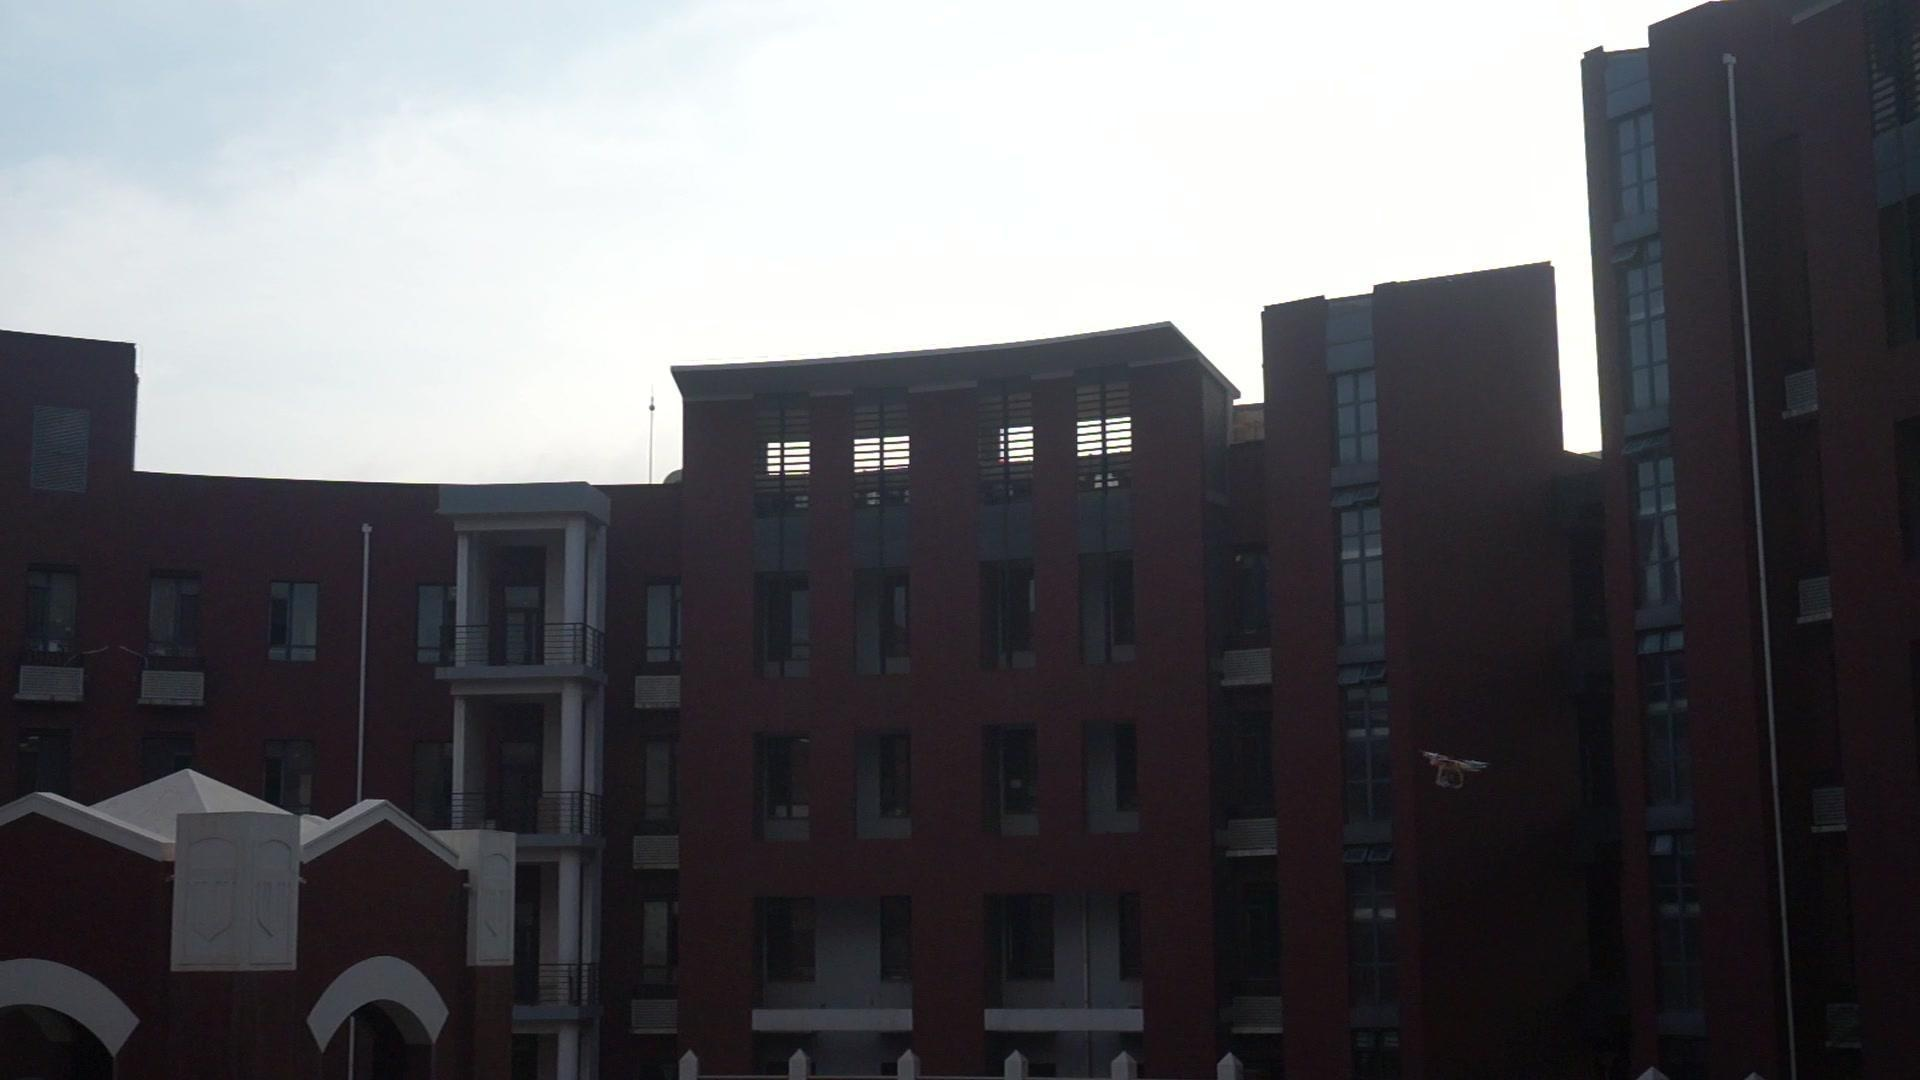UAV: (1422, 750, 1491, 790)
